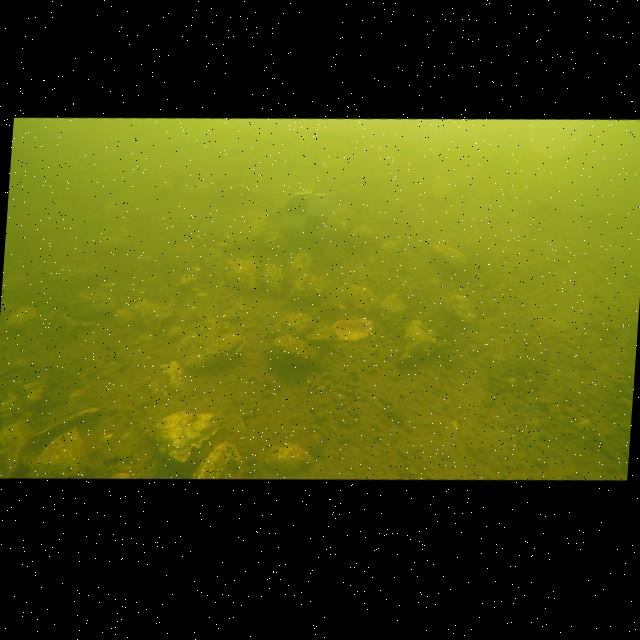Oyster-Closed: (155, 411, 224, 461), (183, 331, 244, 370), (193, 441, 243, 478), (398, 319, 438, 363), (338, 284, 389, 314), (69, 290, 116, 322), (265, 443, 312, 473), (271, 335, 316, 365), (429, 245, 466, 274), (289, 275, 322, 304), (226, 258, 256, 288), (379, 294, 406, 326), (447, 294, 476, 322), (261, 263, 286, 294), (290, 251, 312, 271)
Oyster-Indeterminate: (32, 428, 91, 478), (174, 315, 221, 356), (0, 421, 24, 478)
Oyster-Open: (8, 407, 102, 478), (331, 318, 373, 340)
